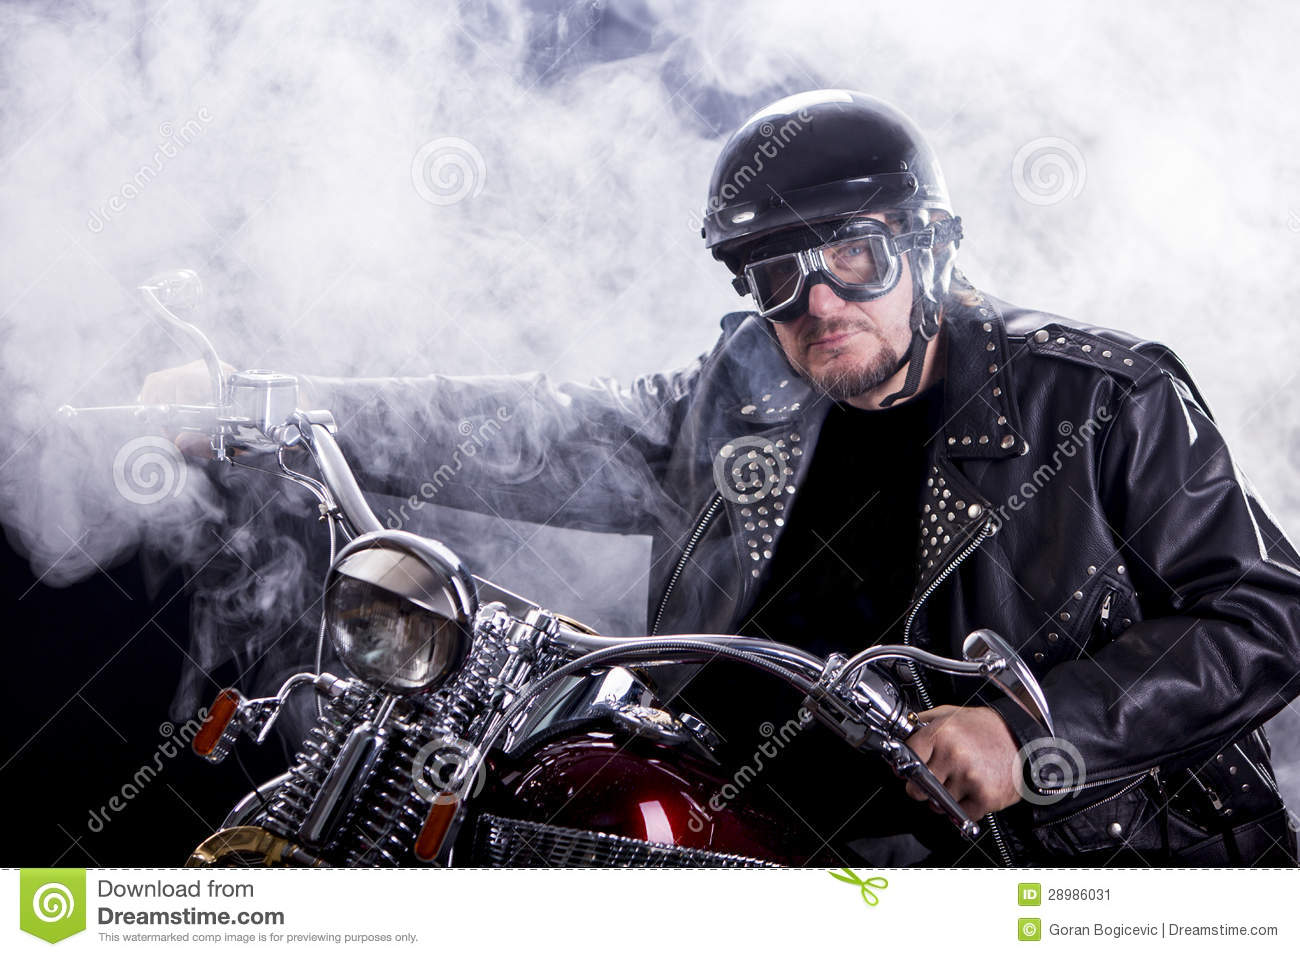helmet: (689, 86, 965, 269)
